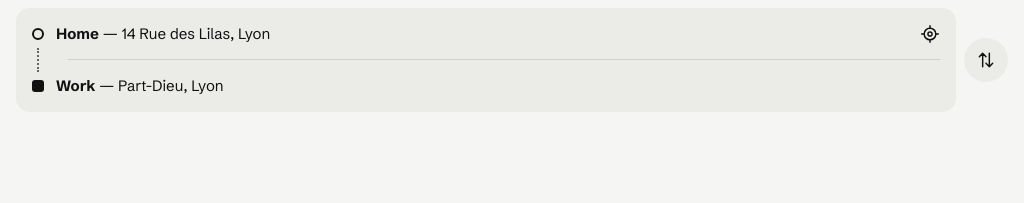
Test case: RouteSection › offers Home and Work in the focused field, and fills only that field
The image size is (1024, 203).
Later steps or results of the test are not shown.
Click the dropdown named "From" next to "14 Rue des Lilas, Lyon": click(476, 34) [56,8,896,60]
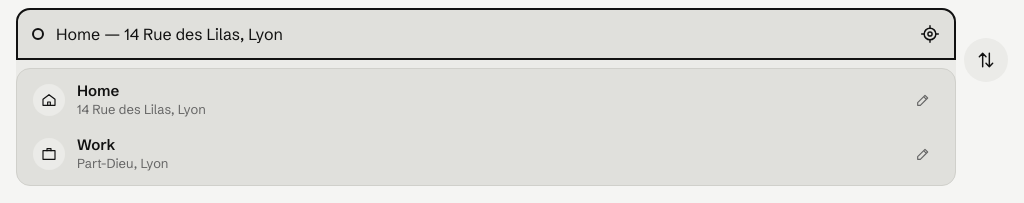
Expected: the options read "Home14 Rue des Lilas, Lyon", "WorkPart-Dieu, Lyon", in this order, [21,73,951,127]; [21,127,951,181]
